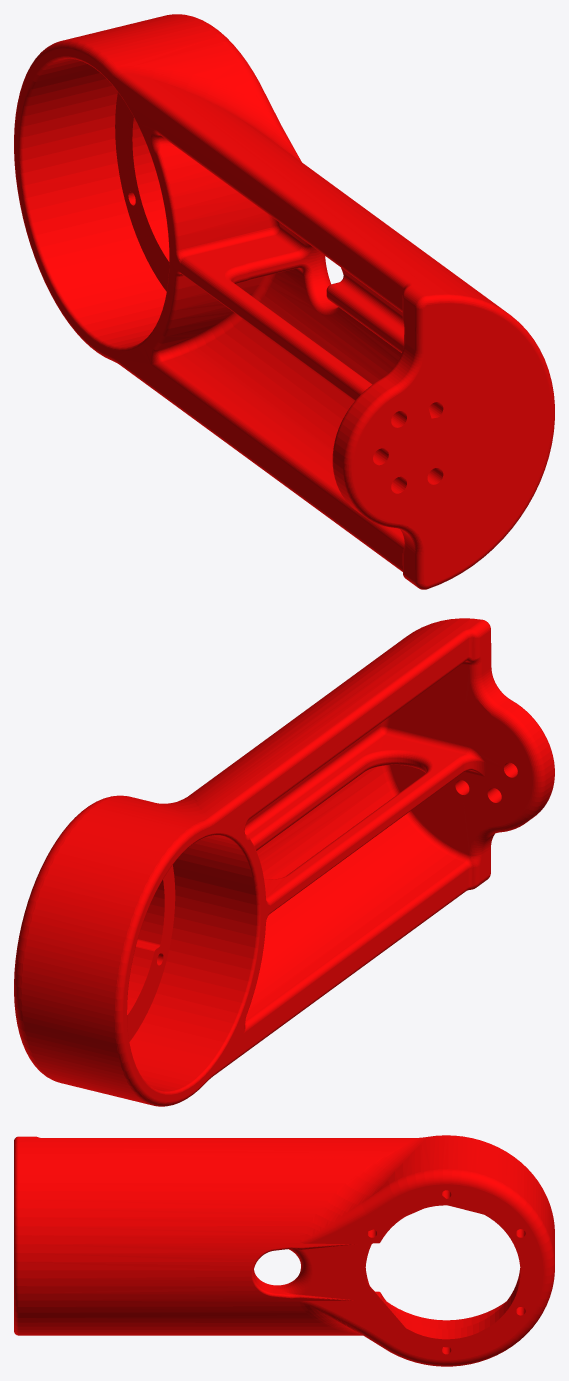
Rendered from right_arm_1_elbow_1.glb.
3 renders of one model, top to bottom at view 1: azimuth 30°, elevation 25°; view 2: azimuth 150°, elevation 25°; view 3: azimuth 270°, elevation 25°, orthographic. The views are drawn at different scales.
Visible parts, largest first — view 1: right_arm_1_elbow_1.obj; view 2: right_arm_1_elbow_1.obj; view 3: right_arm_1_elbow_1.obj.
Boxes of the visible parts, x1,y1,x2,y2 form: right_arm_1_elbow_1.obj: (14, 14, 554, 589); right_arm_1_elbow_1.obj: (14, 618, 554, 1106); right_arm_1_elbow_1.obj: (14, 1135, 554, 1366).
Bounding box in the file's own units: 0.0668 × 0.091 × 0.227.
